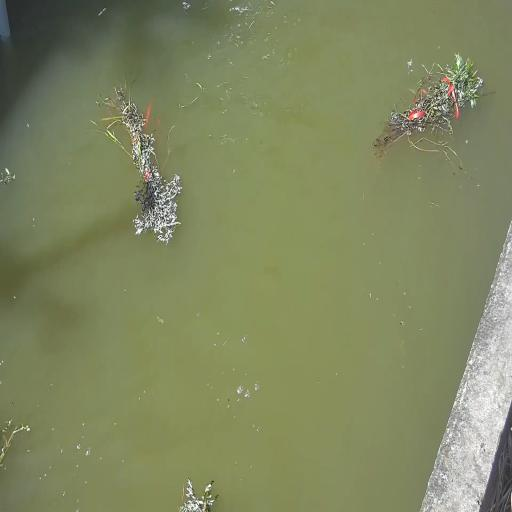twig: (90, 75, 182, 243), (370, 53, 487, 168)
